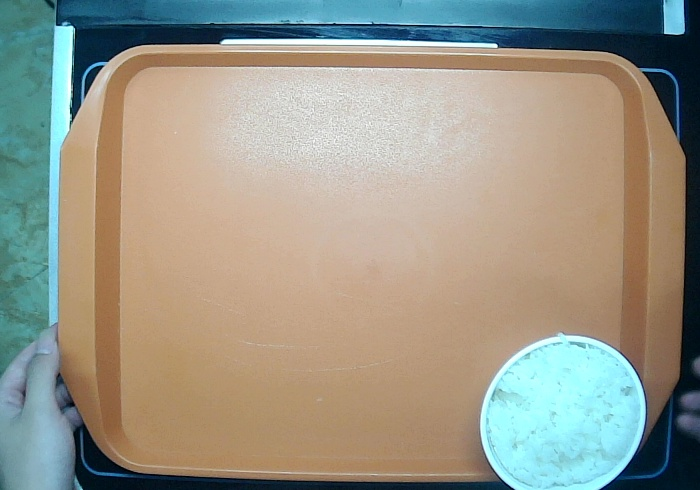HZYJPL-Fan_Wan: (478, 333, 649, 490)
